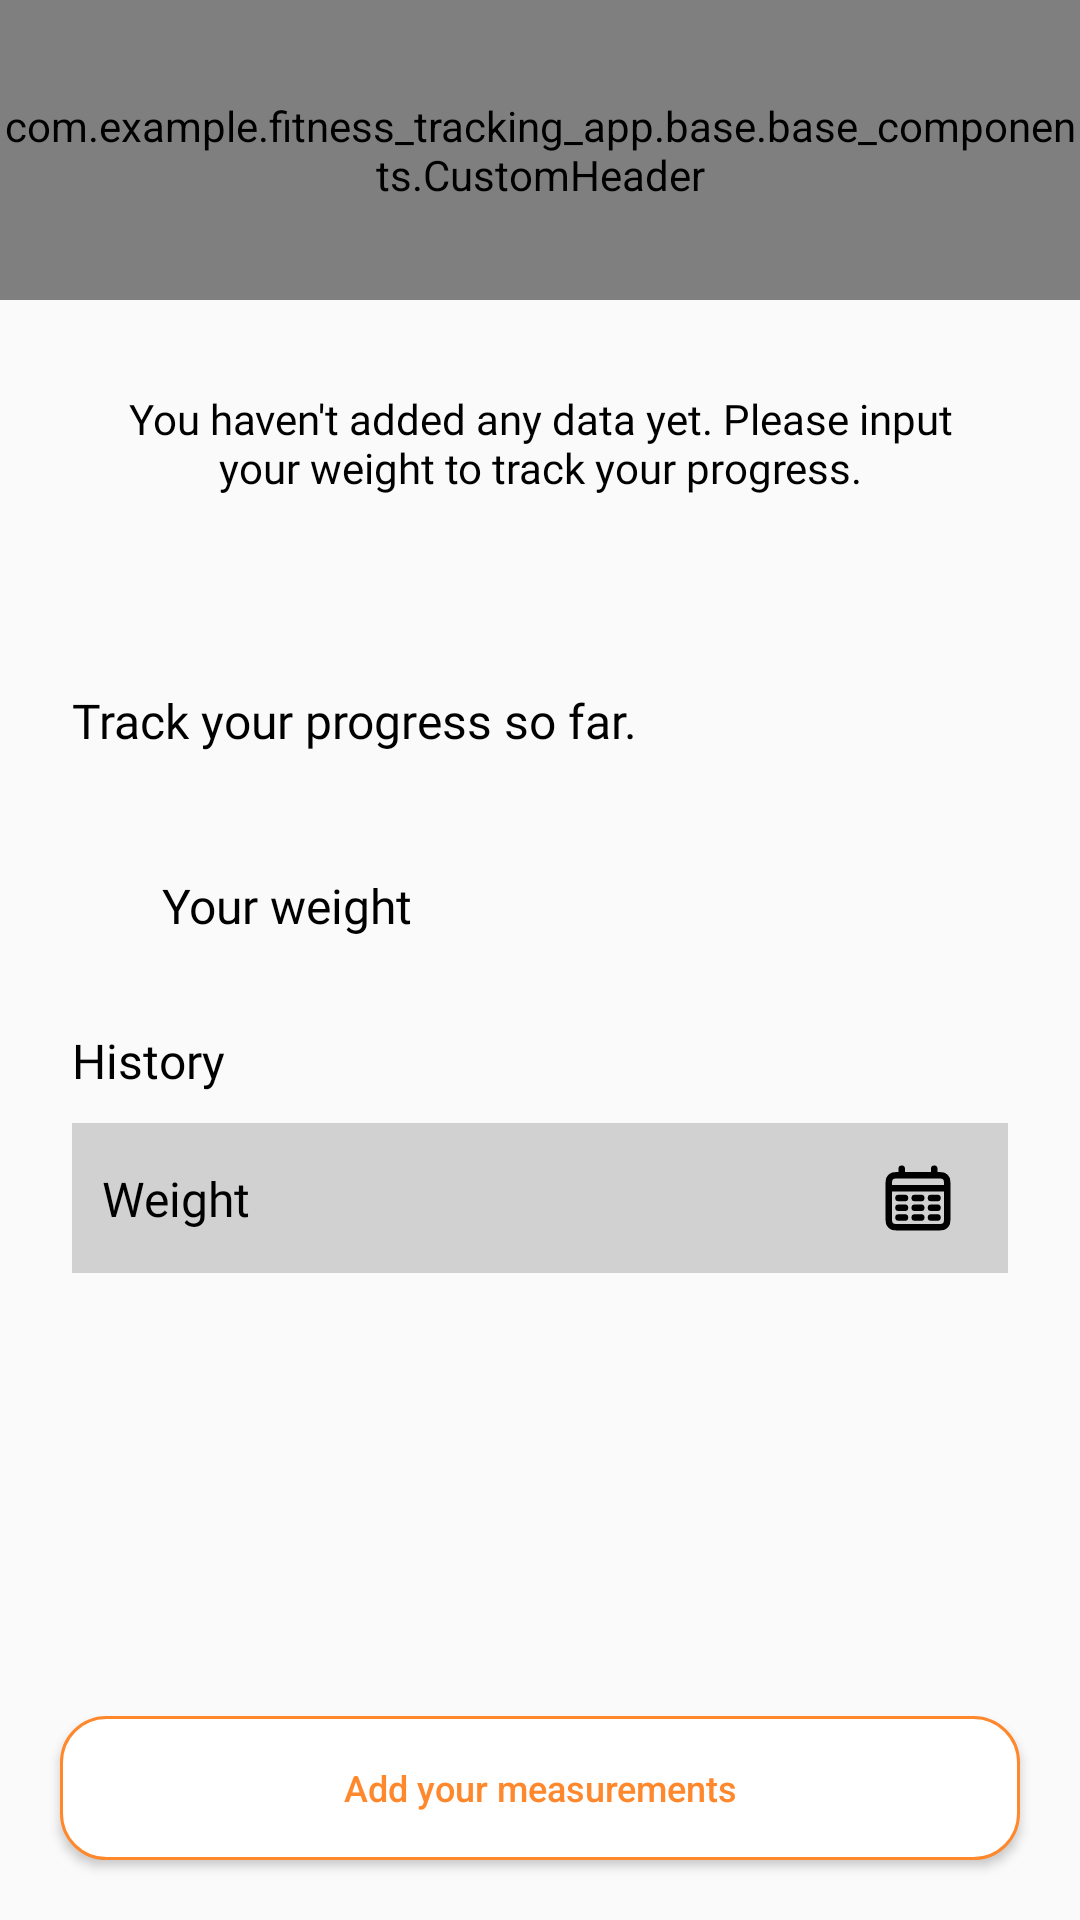

Where icons sit on this 1080*1920 app screen, as [x1,y1,x2,y2]:
calendar: [885,1165,951,1231]
